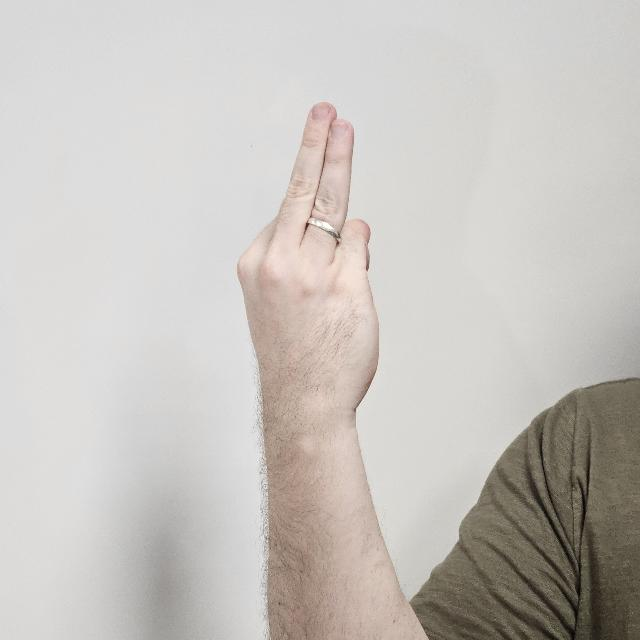R: (232, 78, 400, 458)
